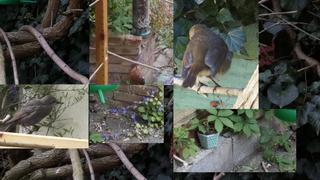robin: (180, 24, 235, 95)
starling: (3, 95, 65, 134)
